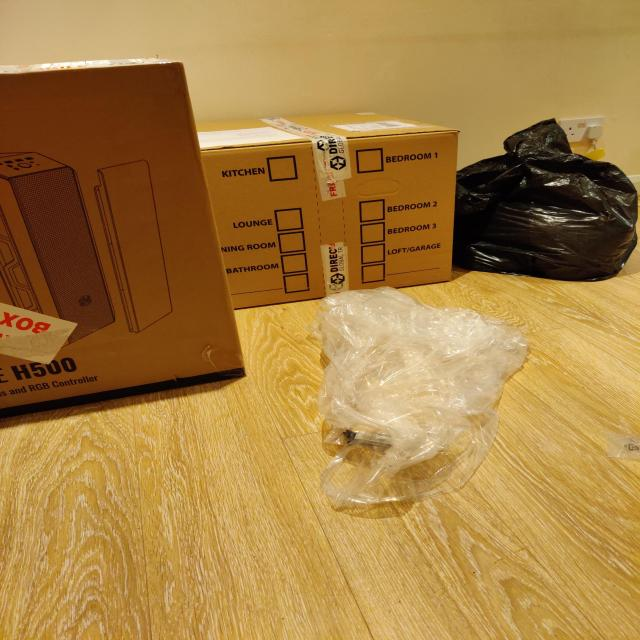litter: (313, 282, 540, 522), (445, 109, 628, 281)
